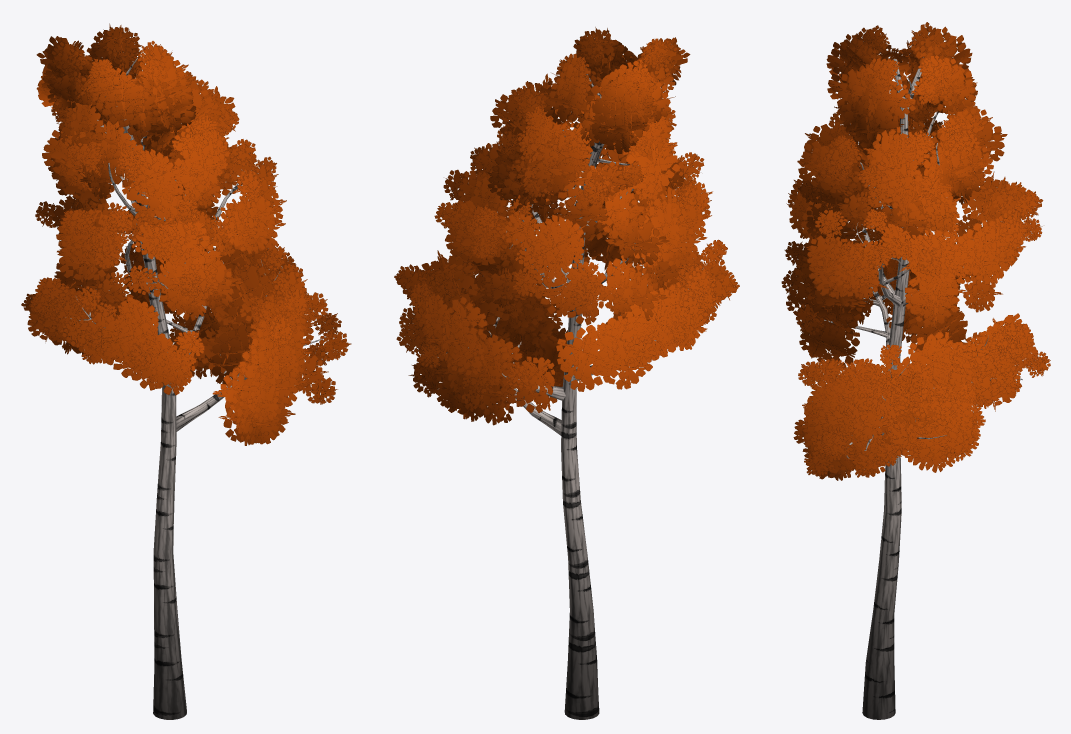
Rendered from Birch_2.gltf.
3 renders of one model, left to right at view 1: azimuth 30°, elevation 25°; view 2: azimuth 150°, elevation 25°; view 3: azimuth 270°, elevation 25°, orthographic. The views are drawn at different scales.
Visible parts, largest first — view 1: Birch_2; view 2: Birch_2; view 3: Birch_2.
Boxes of the visible parts, box(x1,y1,x2,y2) form: Birch_2: box(21, 23, 351, 719); Birch_2: box(394, 27, 739, 719); Birch_2: box(781, 22, 1050, 719).
Bounding box in the file's own units: 6.66 × 13.53 × 5.25.
Materials: 2 (2 with a texture image).
